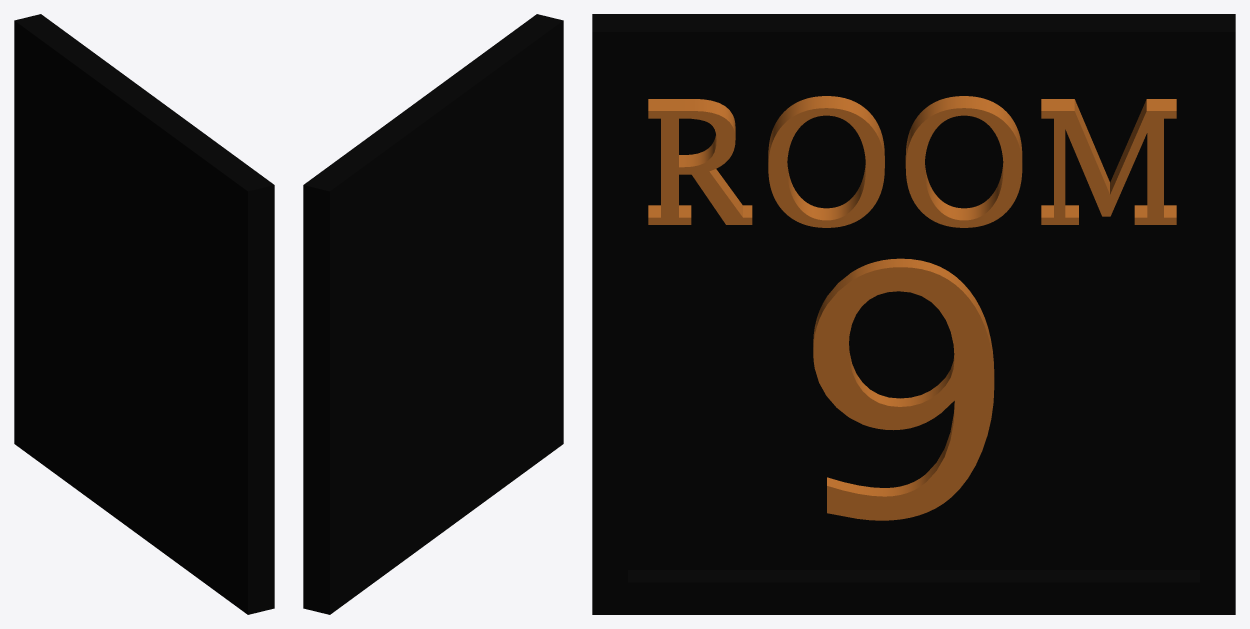
File: F11_Room9.fbx
3 views of the same model, side by side, from view 1: azimuth 30°, elevation 25°; view 2: azimuth 150°, elevation 25°; view 3: azimuth 270°, elevation 25° (orthographic). The views are drawn at different scales.
Visible parts, largest first — view 1: Room9Label; view 2: Room9Label; view 3: Room9Label.
Boxes of the visible parts, left/top/right/bottom form: Room9Label: left=14, top=14, right=274, bottom=614; Room9Label: left=303, top=14, right=563, bottom=614; Room9Label: left=592, top=14, right=1235, bottom=614.
Size of the model in its own units: 0.0658 by 1 by 1.
